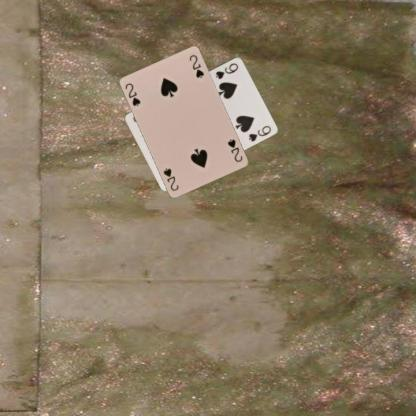2s: (225, 136, 244, 164), (123, 81, 142, 107)
9s: (213, 60, 239, 80)
